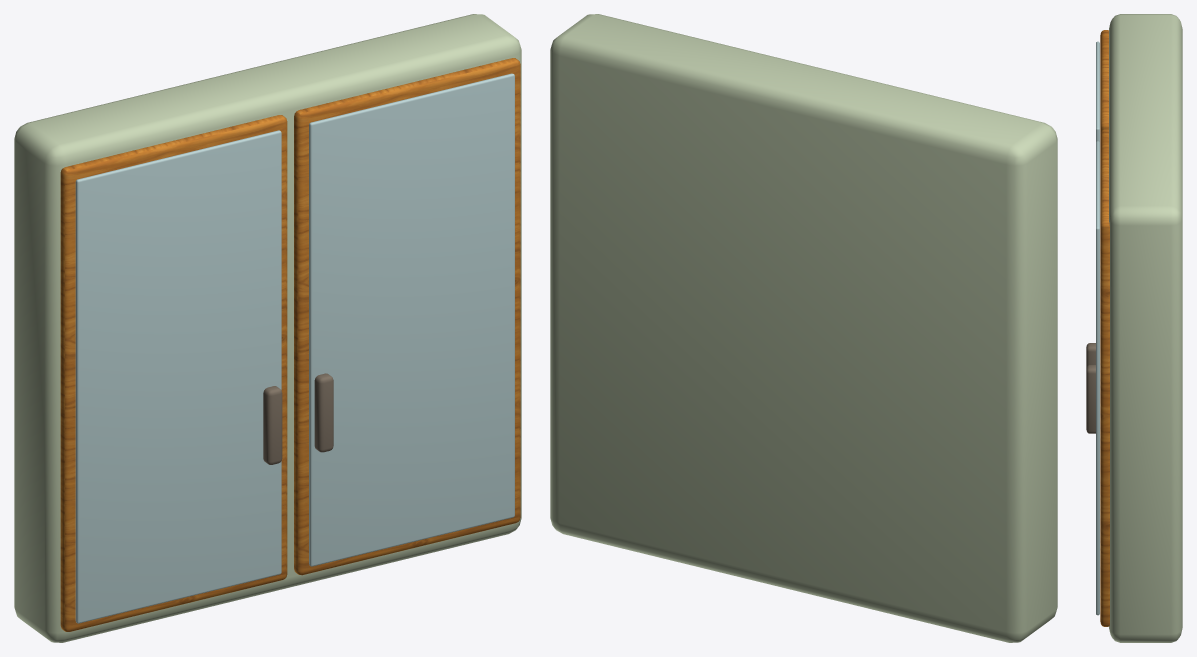
File: bath-medicine-cabinet.glb
3 views of the same model, side by side, from view 1: azimuth 30°, elevation 25°; view 2: azimuth 150°, elevation 25°; view 3: azimuth 270°, elevation 25° (orthographic). The views are drawn at different scales.
Parts seen in each view (by area): view 1: bath-medicine-cabinet; view 2: bath-medicine-cabinet; view 3: bath-medicine-cabinet.
Part boxes in pixels (x1,y1,x2,y2): bath-medicine-cabinet: (14,14,521,642); bath-medicine-cabinet: (550,14,1057,642); bath-medicine-cabinet: (1086,14,1182,642).
Size of the model in its own units: 0.8 by 0.8 by 0.16.
4 materials, 1 textured.
